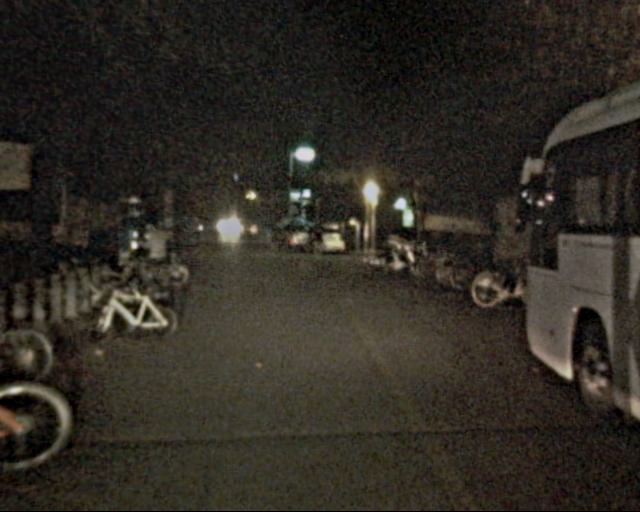person: (139, 220, 171, 297), (309, 224, 325, 264), (266, 221, 281, 258)
